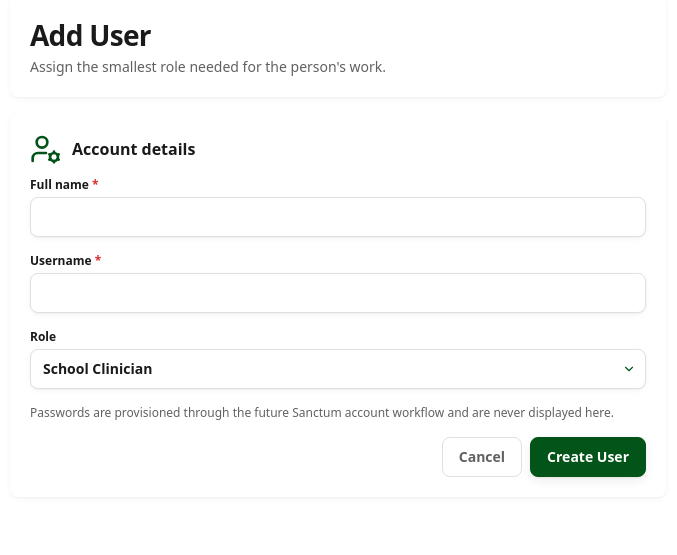
Scenario: UI/UX review regressions › explains empty required fields on the user form instead of ignoring the submit
Expected: the heading "Add User" is shown, 30,16 -> 151,54
Click the button "Create User". click: (588, 457)
box: 530,437 -> 646,477
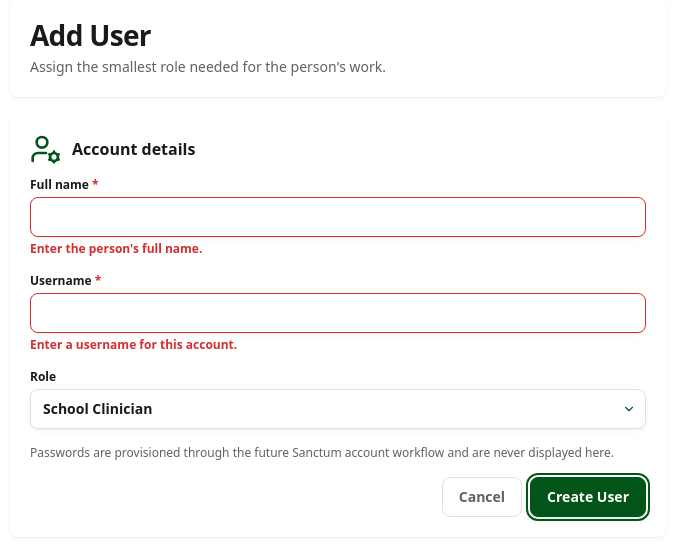
Expected: the text "Enter the person's full name." is shown, 30,240 -> 202,257
Expected: the text "Enter a username for this account." is shown, 30,336 -> 237,353
